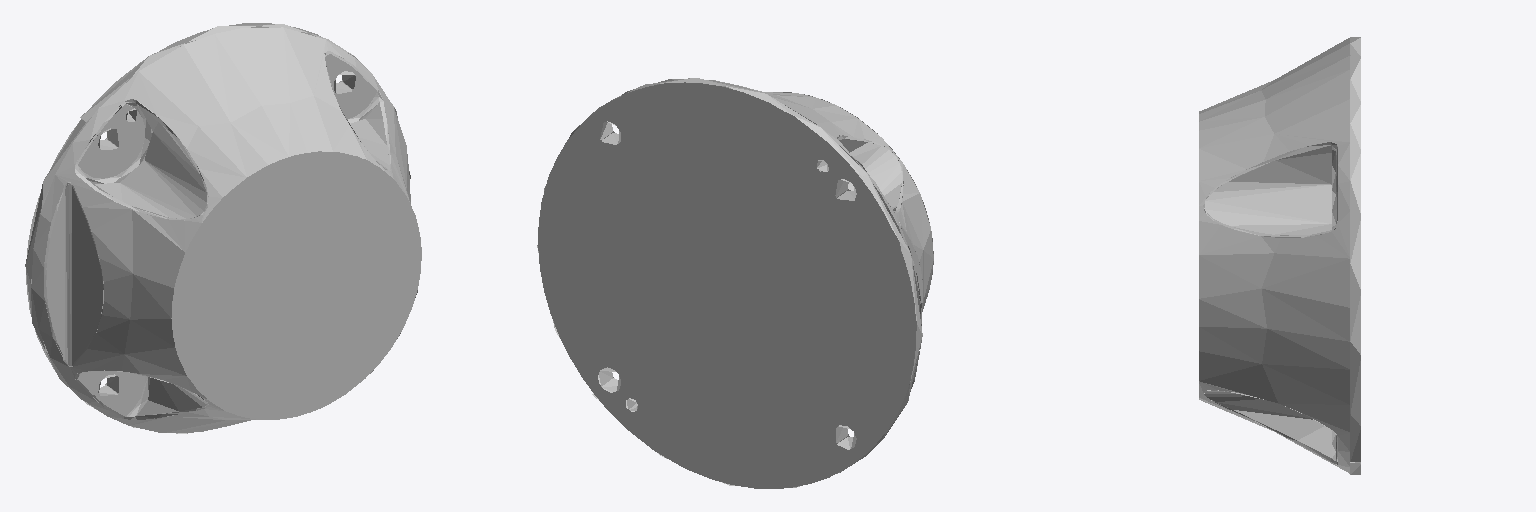
Rendered from tm5_base_old.obj.
3 renders of one model, left to right at view 1: azimuth 30°, elevation 25°; view 2: azimuth 150°, elevation 25°; view 3: azimuth 270°, elevation 25°, orthographic.
Parts seen in each view (by area): view 1: tm5_base_old; view 2: tm5_base_old; view 3: tm5_base_old.
Boxes of the visible parts, <box> form: tm5_base_old: <box>25,23,421,433</box>; tm5_base_old: <box>537,78,933,488</box>; tm5_base_old: <box>1199,37,1360,474</box>.
Bounding box in the file's own units: 0.1777 × 0.1781 × 0.066.